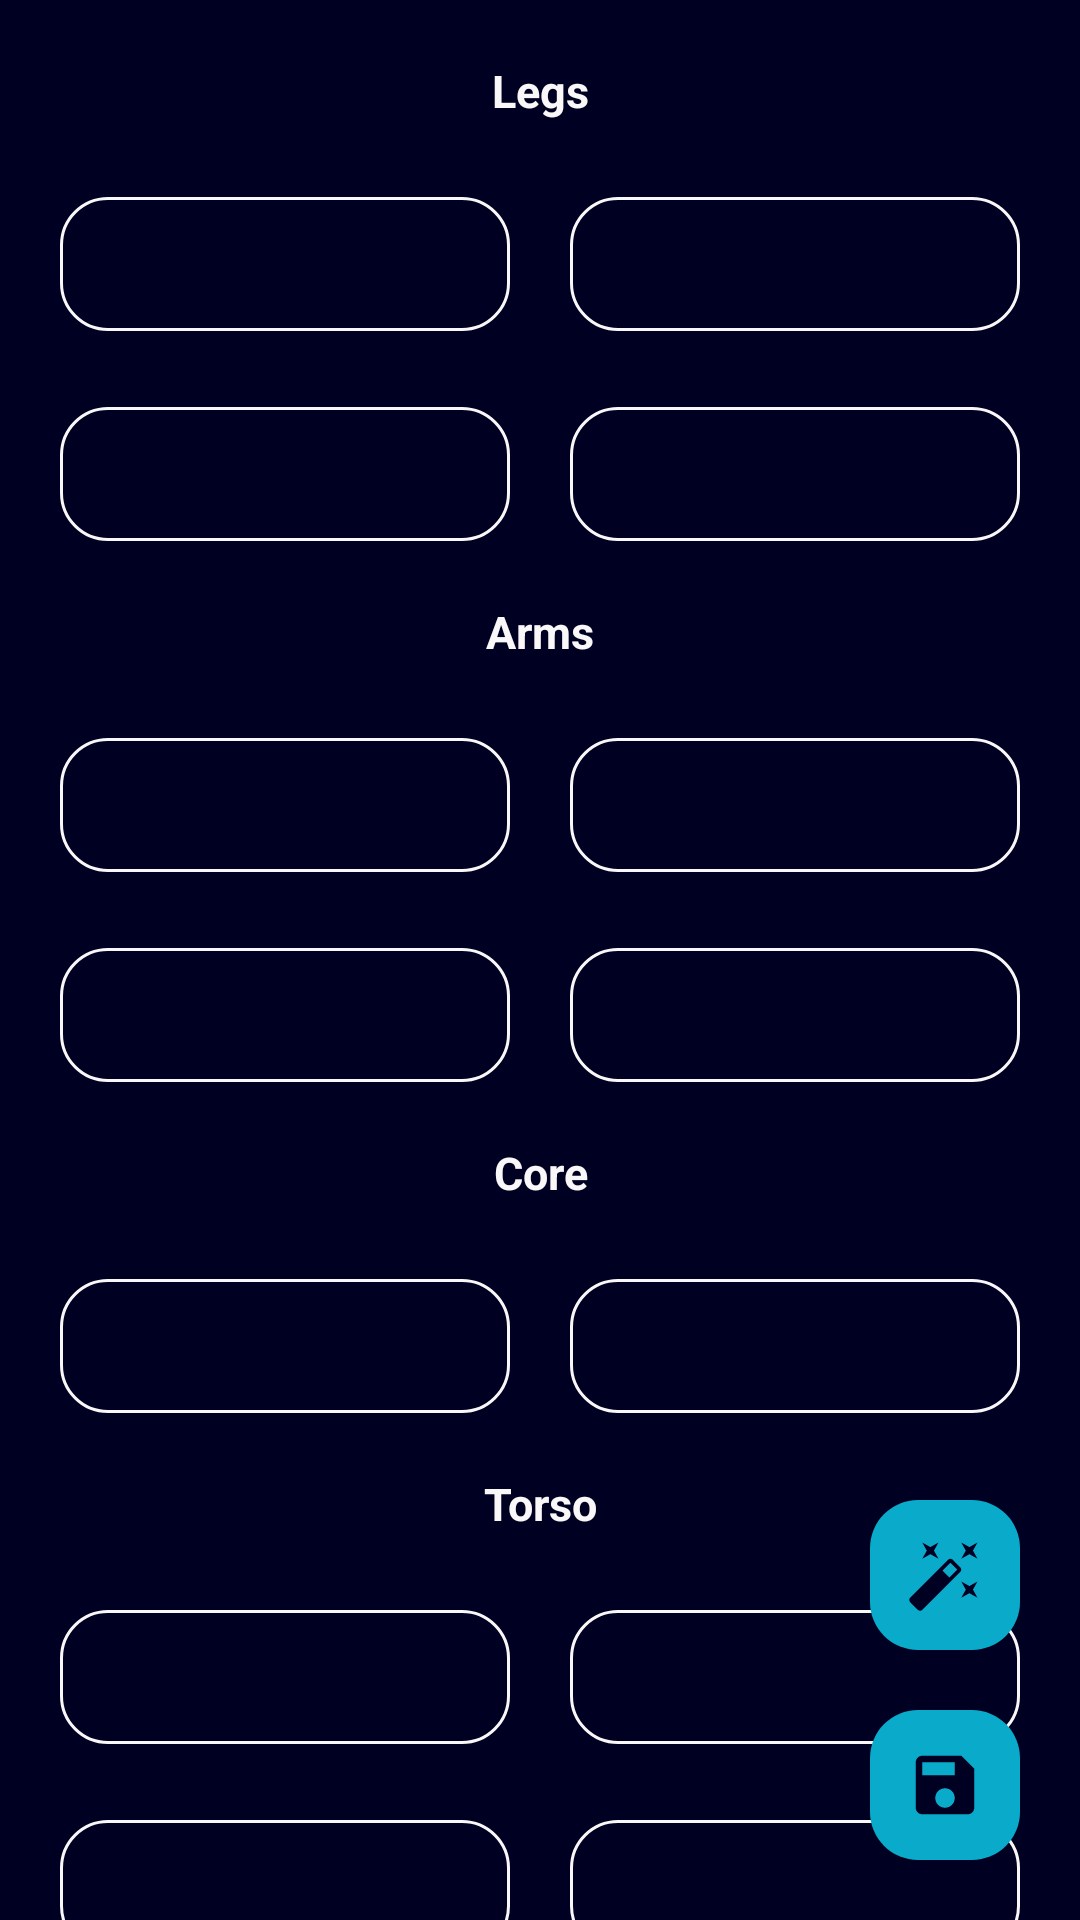

Named icons in this screenshot (1080 × 1920) and their bounding boxes, (x1, y1, x2, y2):
Auto Fill: (870, 1500, 1020, 1650)
Save: (870, 1710, 1020, 1860)
